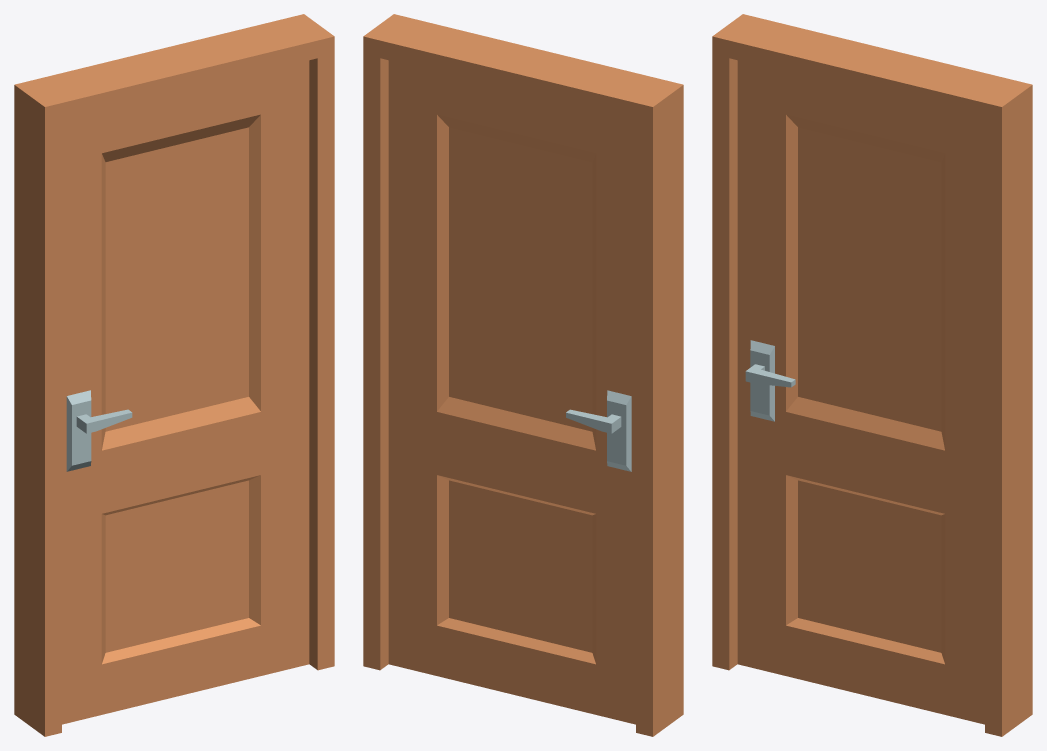
The model's file is doorway.obj.
3 renders of one model, left to right at view 1: azimuth 30°, elevation 25°; view 2: azimuth 150°, elevation 25°; view 3: azimuth 330°, elevation 25°, orthographic.
Parts seen in each view (by area): view 1: door, doorway; view 2: door, doorway; view 3: door, doorway.
Boxes of the visible parts, x1,y1,x2,y2 form: door: (62,60,309,724); doorway: (14,14,334,736); door: (388,60,635,724); doorway: (363,14,683,736); door: (737,60,984,724); doorway: (712,14,1032,736).
Size of the model in its own units: 0.486 by 1.01 by 0.1134.
